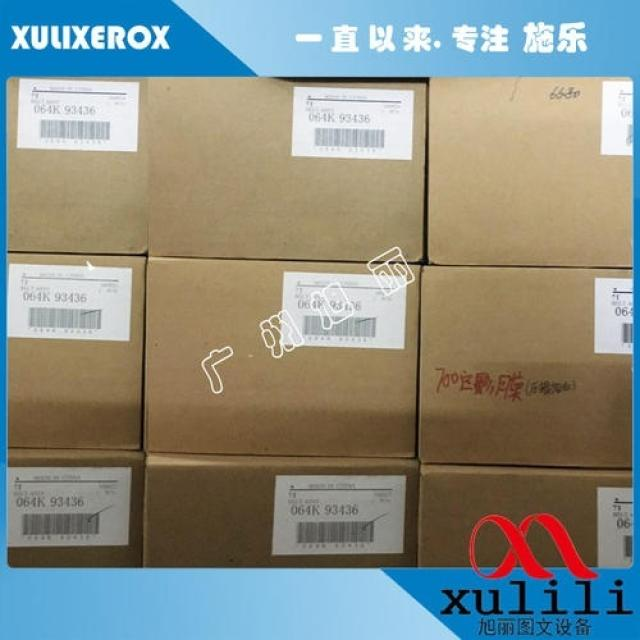Carton: (141, 260, 631, 570), (4, 77, 424, 257), (426, 76, 630, 266), (5, 256, 143, 449)
